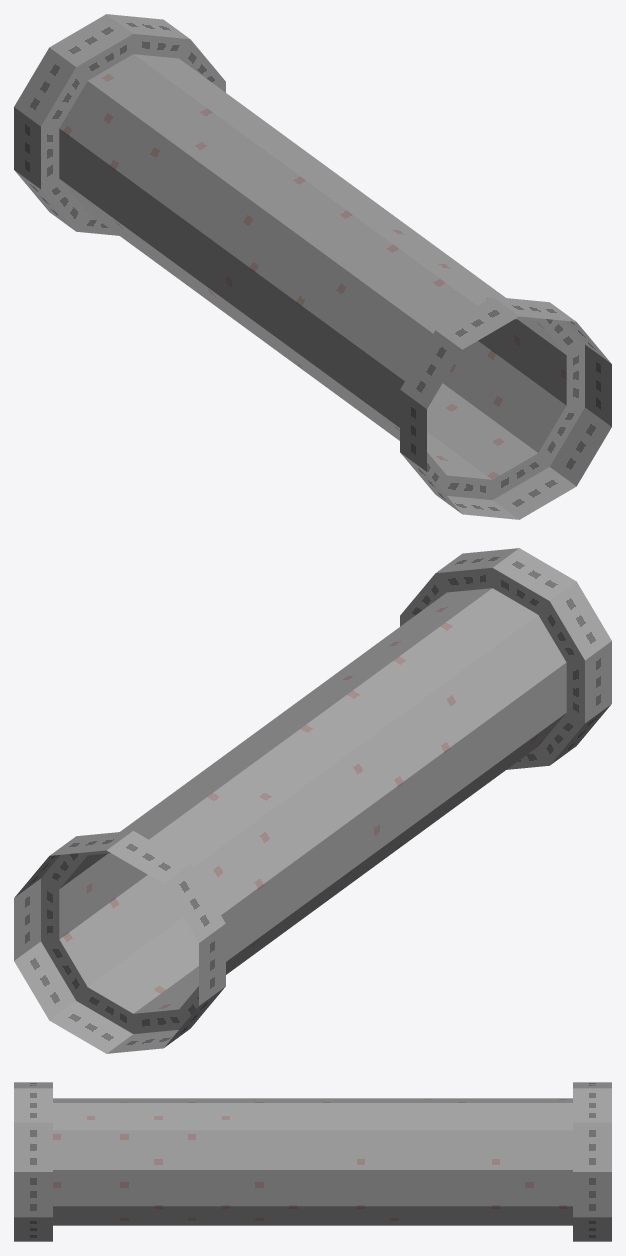
Rendered from Pipe_0.fbx.
3 views of the same model, one above another, from view 1: azimuth 30°, elevation 25°; view 2: azimuth 150°, elevation 25°; view 3: azimuth 270°, elevation 25° (orthographic). The views are drawn at different scales.
Parts seen in each view (by area): view 1: Pipe_0; view 2: Pipe_0; view 3: Pipe_0.
Boxes of the visible parts, <box> form: Pipe_0: <box>14,14,611,519</box>; Pipe_0: <box>14,548,611,1053</box>; Pipe_0: <box>14,1082,611,1241</box>.
Bounding box in the file's own units: 59.44 × 62.5 × 230.
Materials: 1 (1 with a texture image).
